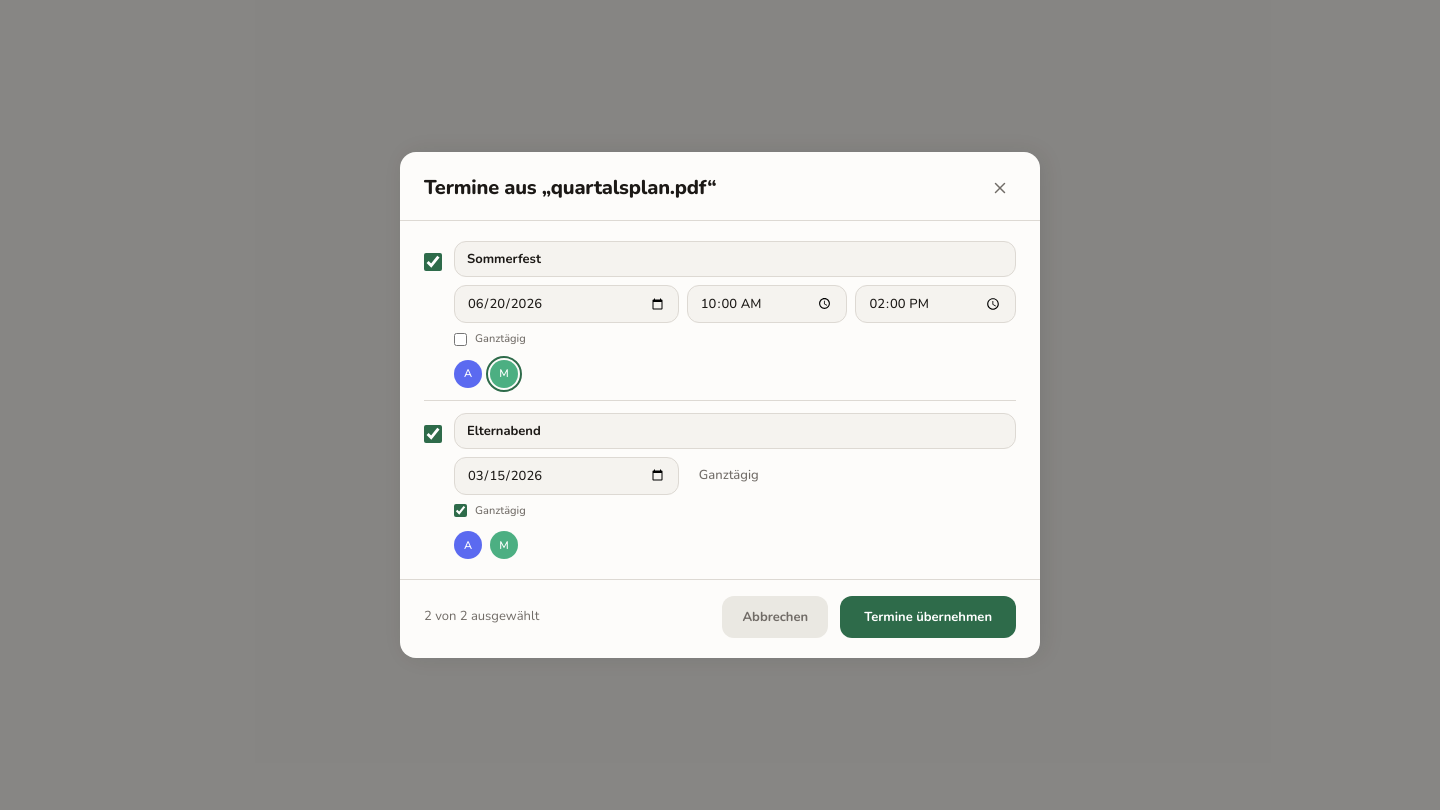
Scenario: ExtractEventsModal — Vorschläge anzeigen › Abwählen einer Checkbox reduziert die Auswahl-Anzahl
Click the checkbox named "übernehmen" at {"x": 433, "y": 262}, box [424,253,442,271]
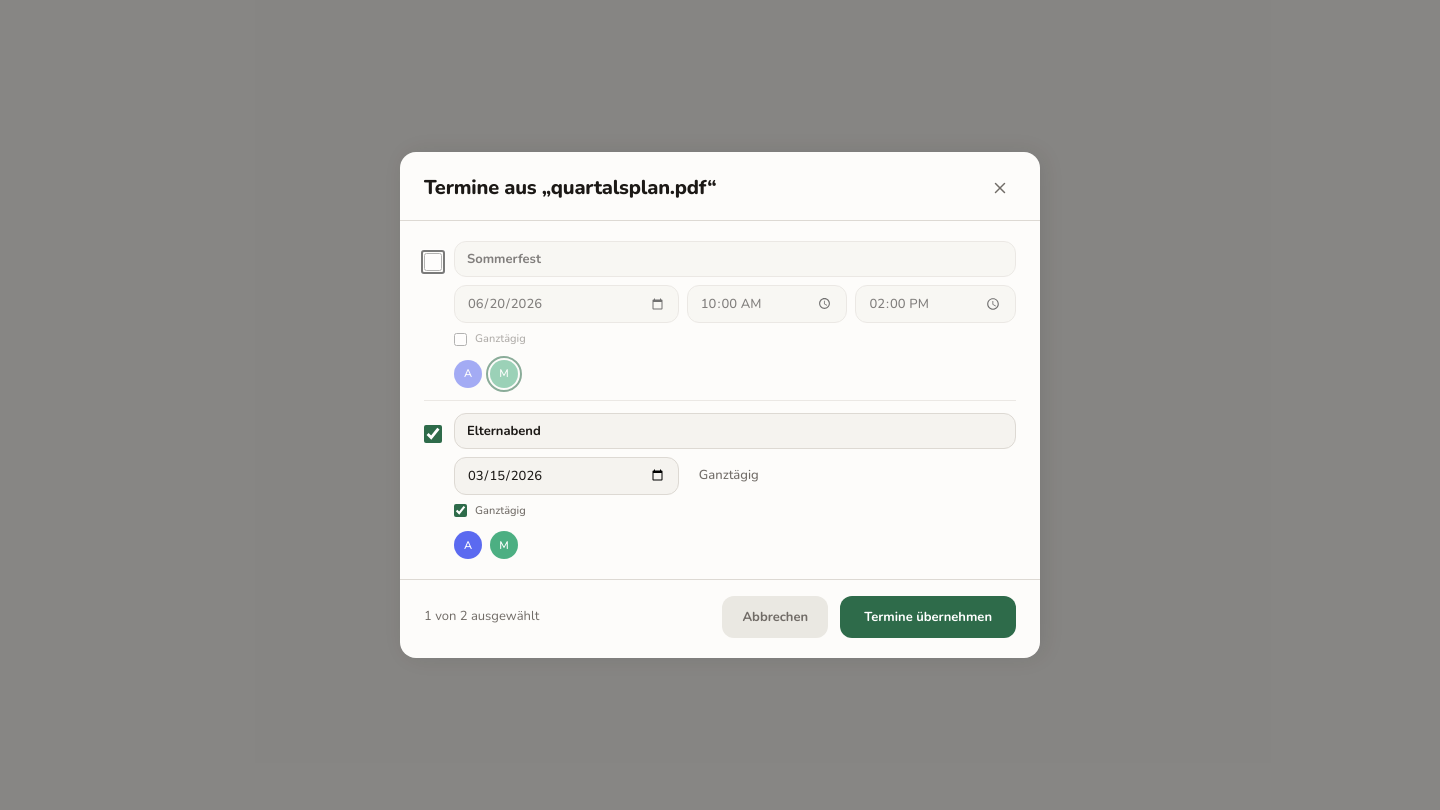
Expected: the text "1 von 2 ausgewählt" is shown, [424,607,539,627]
